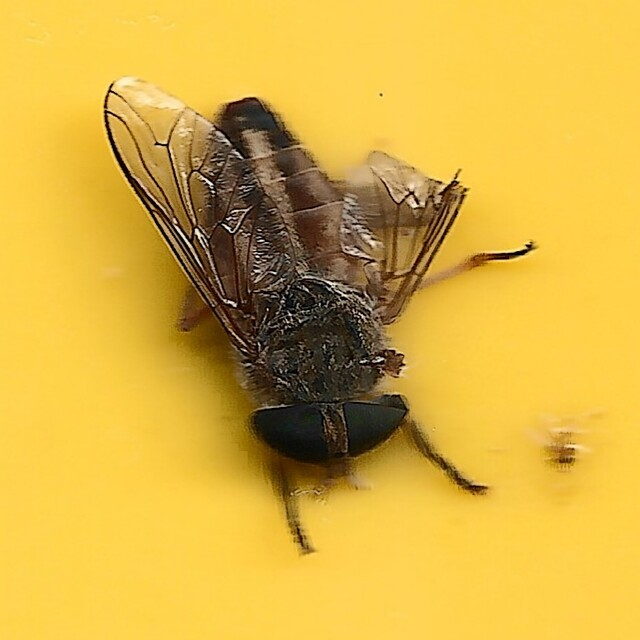Brachycera: (100, 83, 540, 557)
